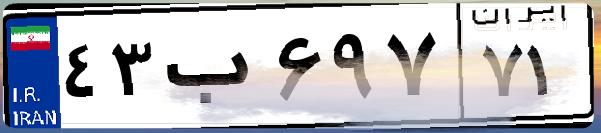1: (525, 38, 570, 115)
3: (110, 28, 158, 98)
4: (57, 26, 110, 100)
6: (270, 28, 330, 110)
7: (385, 28, 445, 110), (475, 38, 525, 113)
9: (330, 28, 385, 110)
ب: (158, 20, 270, 120)
